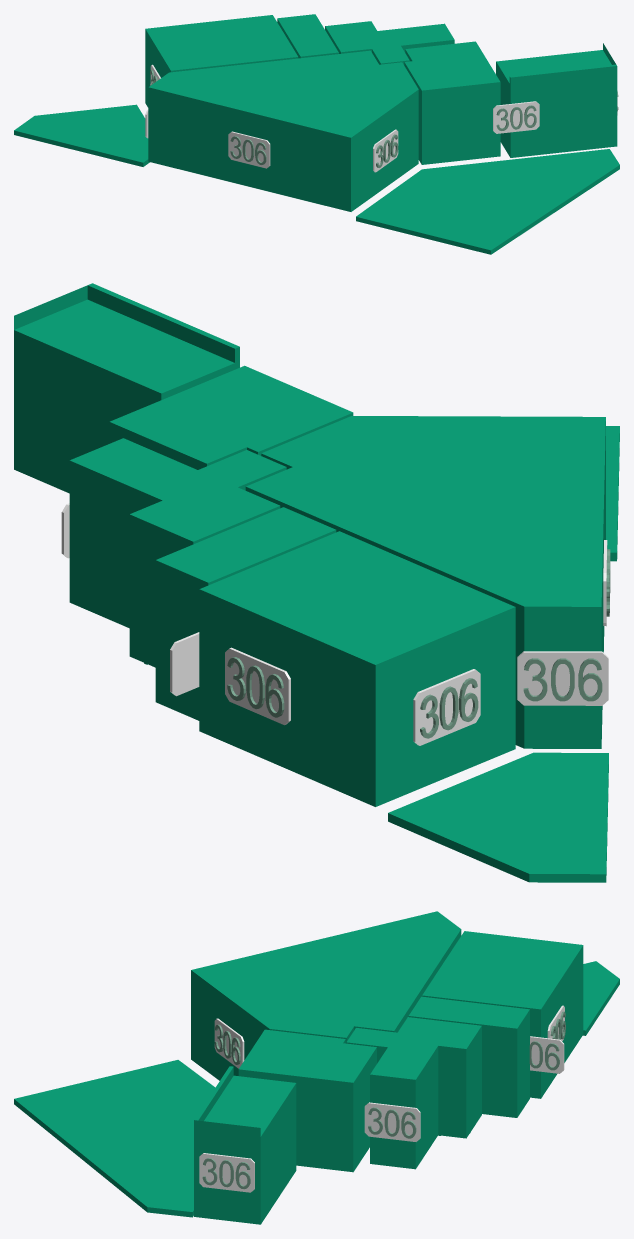
The picture shows the model from 3 angles, top to bottom: view 1: azimuth 30°, elevation 25°; view 2: azimuth 150°, elevation 25°; view 3: azimuth 270°, elevation 25°; orthographic projection. The views are drawn at different scales.
Parts seen in each view (by area): view 1: g_0, g_7, g_5, g_4, g_1, g_6, g_3, g_2, g_35, g_11, g_31; view 2: g_1, g_0, g_5, g_3, g_6, g_4, g_2, g_27, g_15, g_19, g_7, g_39; view 3: g_0, g_7, g_3, g_4, g_1, g_5, g_2, g_6, g_43, g_23, g_39, g_31.
Part boxes in pixels (x1,y1,x2,y2): g_0: (148,50,418,211); g_7: (356,149,619,254); g_5: (496,43,617,157); g_4: (404,41,500,164); g_1: (145,15,298,107); g_6: (14,104,149,166); g_3: (325,21,454,64); g_2: (277,14,338,58); g_35: (493,101,539,133); g_11: (228,131,270,168); g_31: (373,129,398,172); g_1: (199,531,515,806); g_0: (245,416,605,748); g_5: (14,283,239,493); g_3: (69,438,286,667); g_6: (388,752,608,882); g_4: (109,365,353,469); g_2: (155,507,336,720); g_27: (517,651,608,705); g_15: (413,669,480,745); g_19: (225,647,290,725); g_7: (606,426,619,561); g_39: (170,632,199,696); g_0: (191,911,461,1080); g_7: (14,1060,215,1217); g_3: (346,1017,481,1169); g_4: (238,1029,376,1172); g_1: (422,931,583,1098); g_5: (194,1066,296,1224); g_2: (408,996,529,1117); g_6: (583,961,619,1035); g_43: (364,1102,420,1141); g_23: (199,1153,254,1192); g_39: (530,1036,564,1073); g_31: (214,1018,244,1068).
Bounding box in the file's own units: 15.8 × 2.85 × 15.32.
